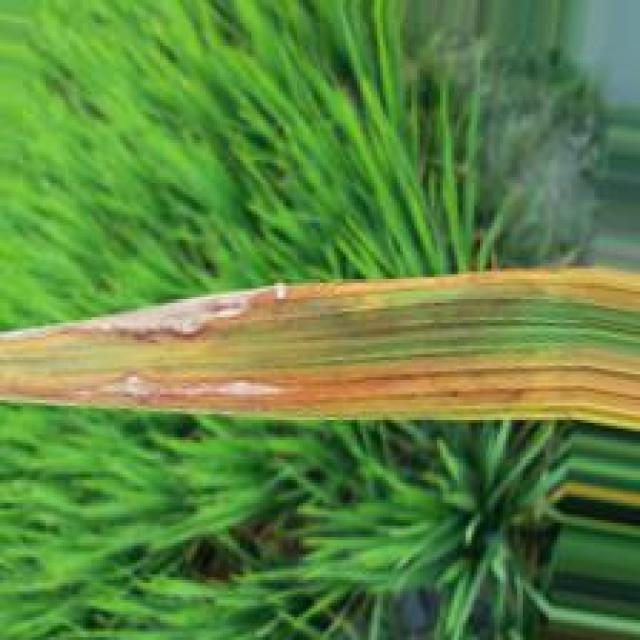Bacterial_Leaf_Blight: (0, 348, 639, 427), (0, 272, 640, 349)
